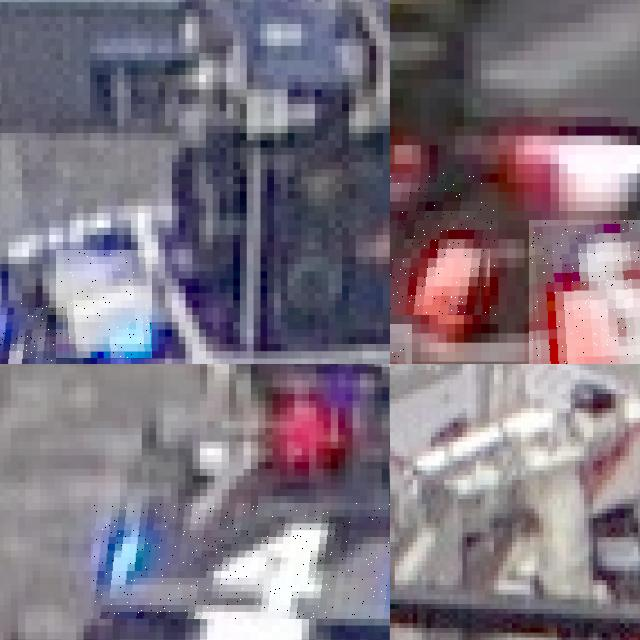B1: (56, 250, 152, 358), (0, 300, 56, 364)
B4: (90, 503, 390, 618)
R5: (528, 220, 640, 364), (390, 173, 498, 314)
